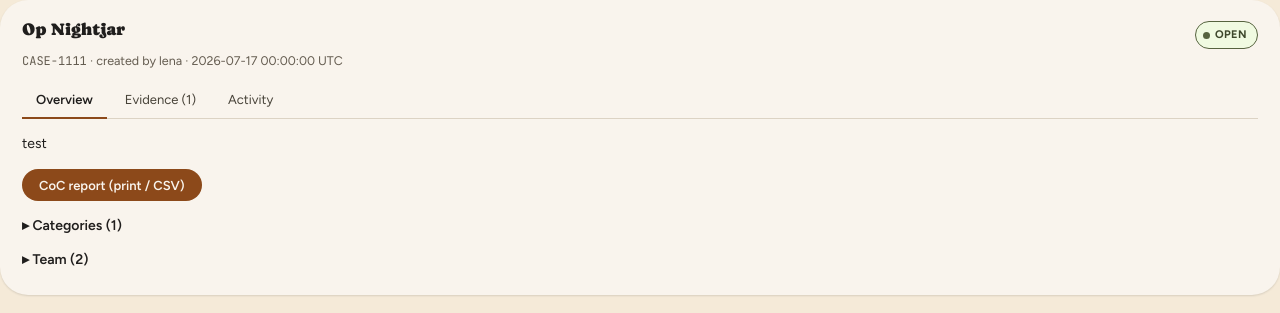
CaseDetailPage (M23 tabs; M25 overview sections) › M25: evidence filters narrow the table and drive the CSV export count
The image size is (1280, 313).
expect the heading "Op Nightjar" is shown: met, box [22, 18, 125, 40]
Click the tab "Evidence (1)".
click(160, 100)  # box [111, 80, 210, 119]
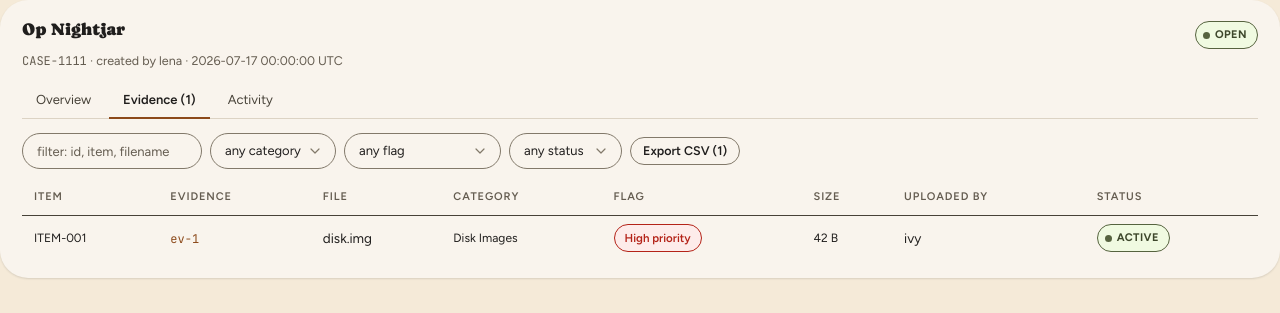
expect the link "ev-1" is shown: met, box [170, 231, 199, 247]
expect the button "Export CSV (1)" is shown: met, box [630, 137, 740, 165]
Type "no-such" into the field with placeholder "filter: id, item, filename".
click(112, 151); type("no-such")  # box [22, 133, 202, 169]
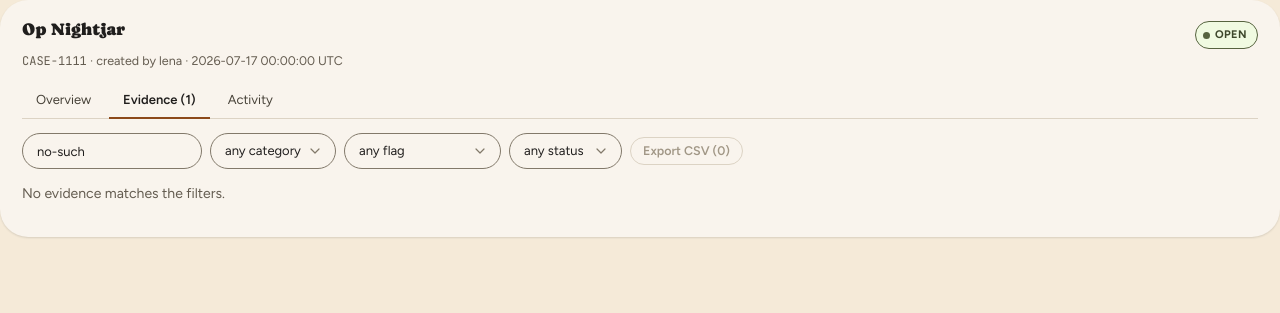
expect the link "ev-1" is gone: met
expect the text "No evidence matches the filters." is shown: met, box [22, 185, 225, 202]
expect the button "Export CSV (0)" is disabled: met, box [630, 137, 743, 165]
